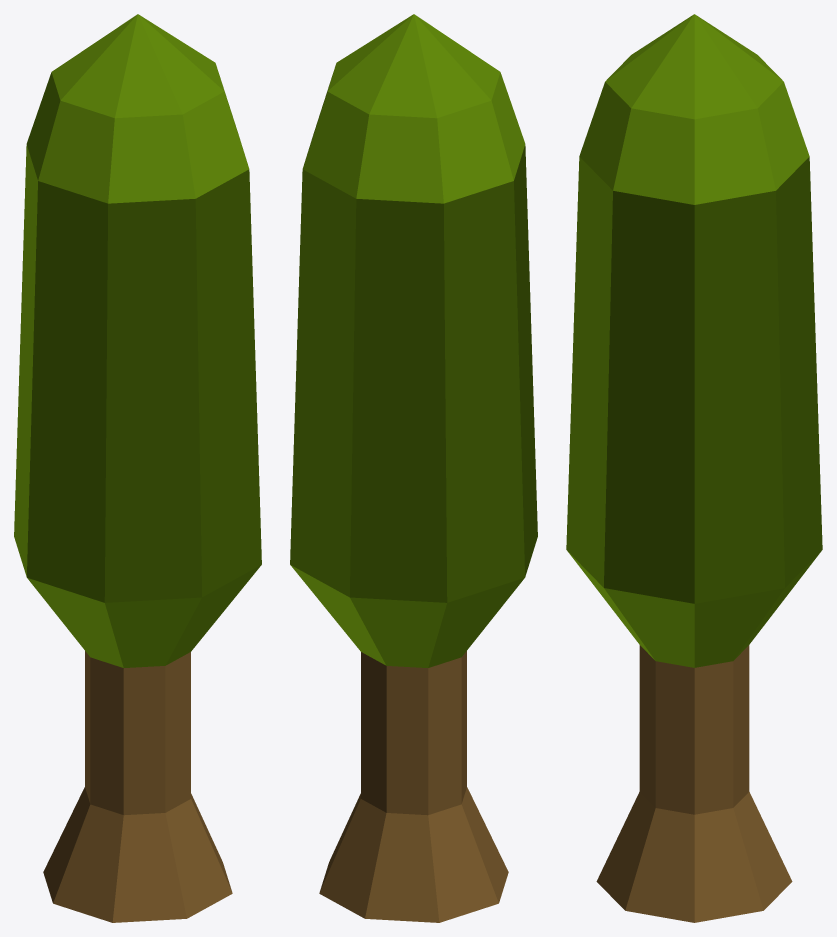
Rendered from Tree_007.fbx.
3 renders of one model, left to right at view 1: azimuth 30°, elevation 25°; view 2: azimuth 150°, elevation 25°; view 3: azimuth 270°, elevation 25°, orthographic.
Visible parts, largest first — view 1: Tree_007; view 2: Tree_007; view 3: Tree_007.
Boxes of the visible parts, bbox=[...] form: Tree_007: bbox=[14, 14, 261, 922]; Tree_007: bbox=[290, 14, 537, 922]; Tree_007: bbox=[566, 14, 822, 922].
Size of the model in its own units: 99.87 by 373 by 99.87.
